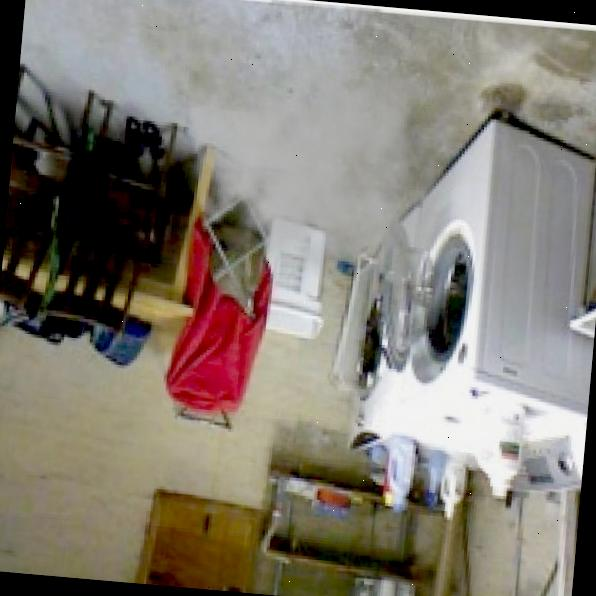smoke: (171, 30, 467, 313)
